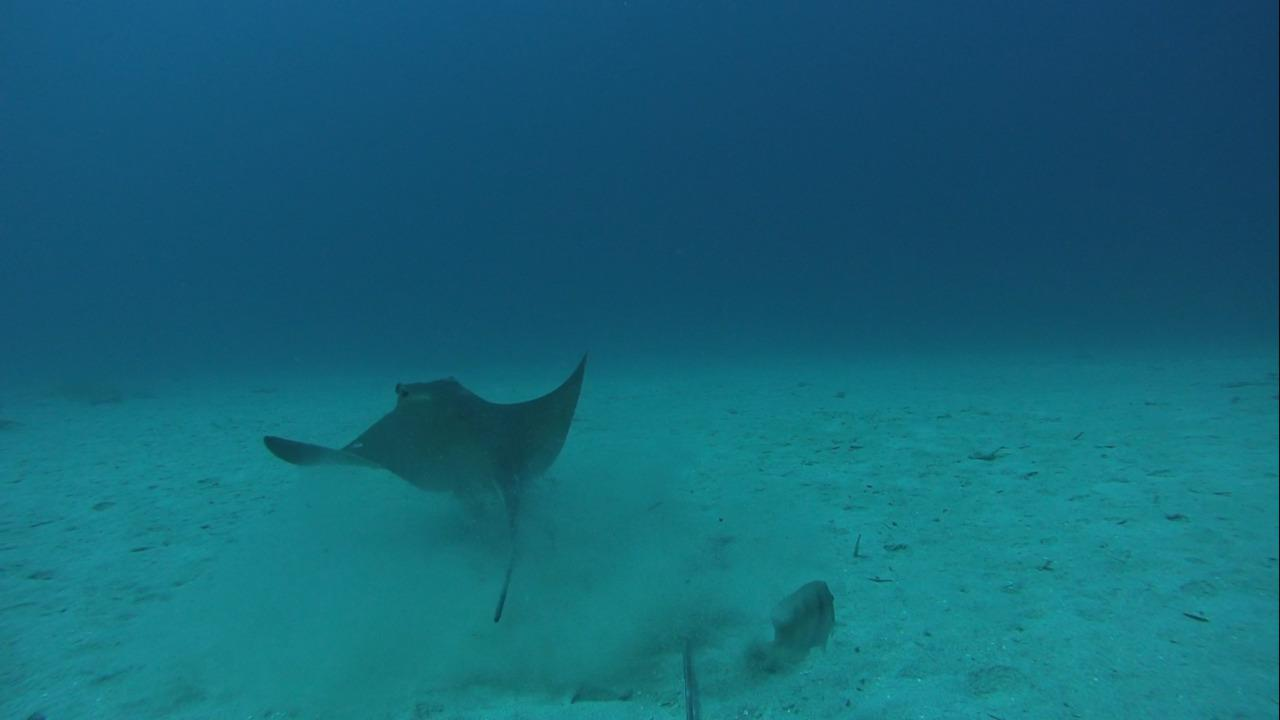myliobatis: (255, 345, 611, 638)
raor: (736, 575, 840, 670)
